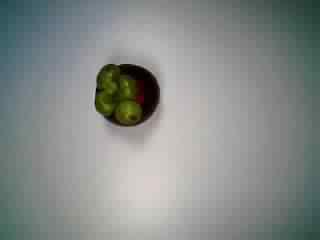mangosteen: (86, 60, 163, 127)
